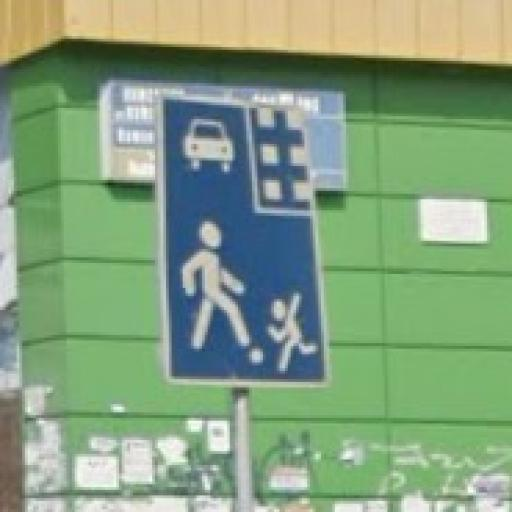traffic_sign: (156, 90, 333, 389)
